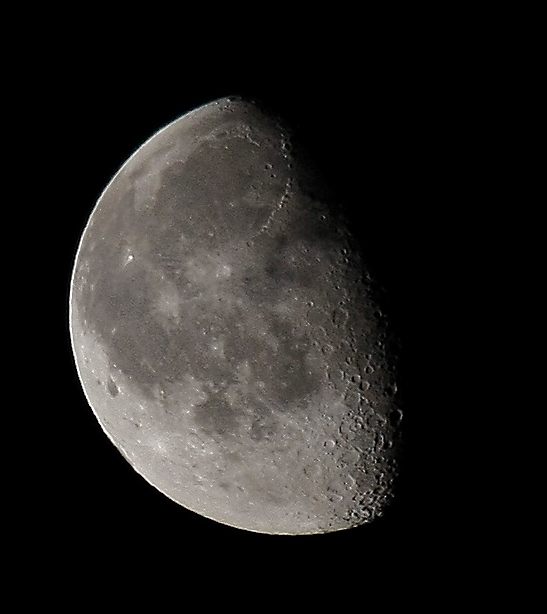crater: (112, 244, 147, 278), (296, 458, 328, 483), (202, 120, 232, 146), (329, 303, 353, 328), (212, 257, 235, 283), (149, 435, 173, 457), (238, 233, 258, 254), (231, 478, 253, 497), (251, 154, 273, 172), (157, 385, 170, 402)
